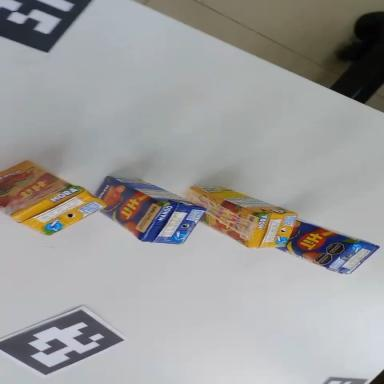HIT-MANGO: (86, 165, 206, 260), (278, 216, 379, 283)
HIT-MORA: (0, 151, 106, 253), (177, 176, 298, 260)
cara_F: (87, 170, 164, 241), (0, 146, 72, 220), (178, 187, 261, 247), (278, 218, 356, 273)
